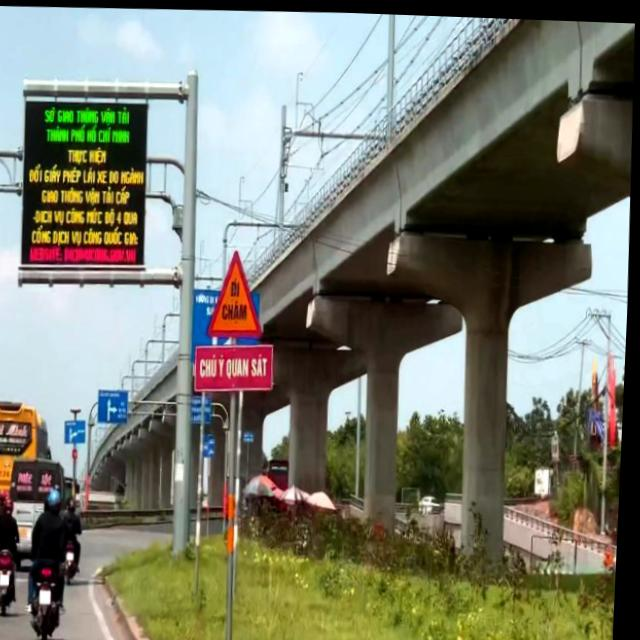Di cham: (205, 242, 271, 342)
